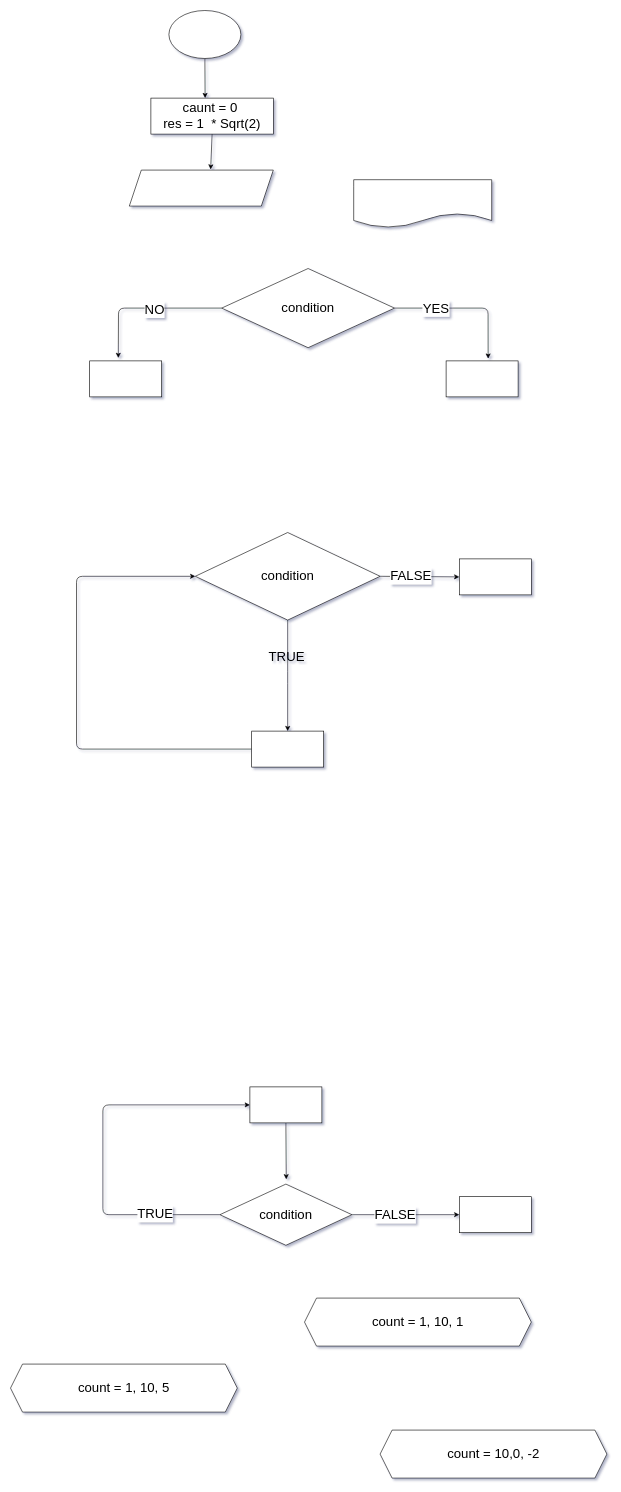
The diagram is 621 pixels wide and 1492 high, and some of its shapes have lost their labels. Here are the shapes that lost their labels. From the top down, the centre of each, then its label:
At point (204, 34): "start end".
At point (201, 188): "ввод res".
At point (422, 203): "вывод res".
